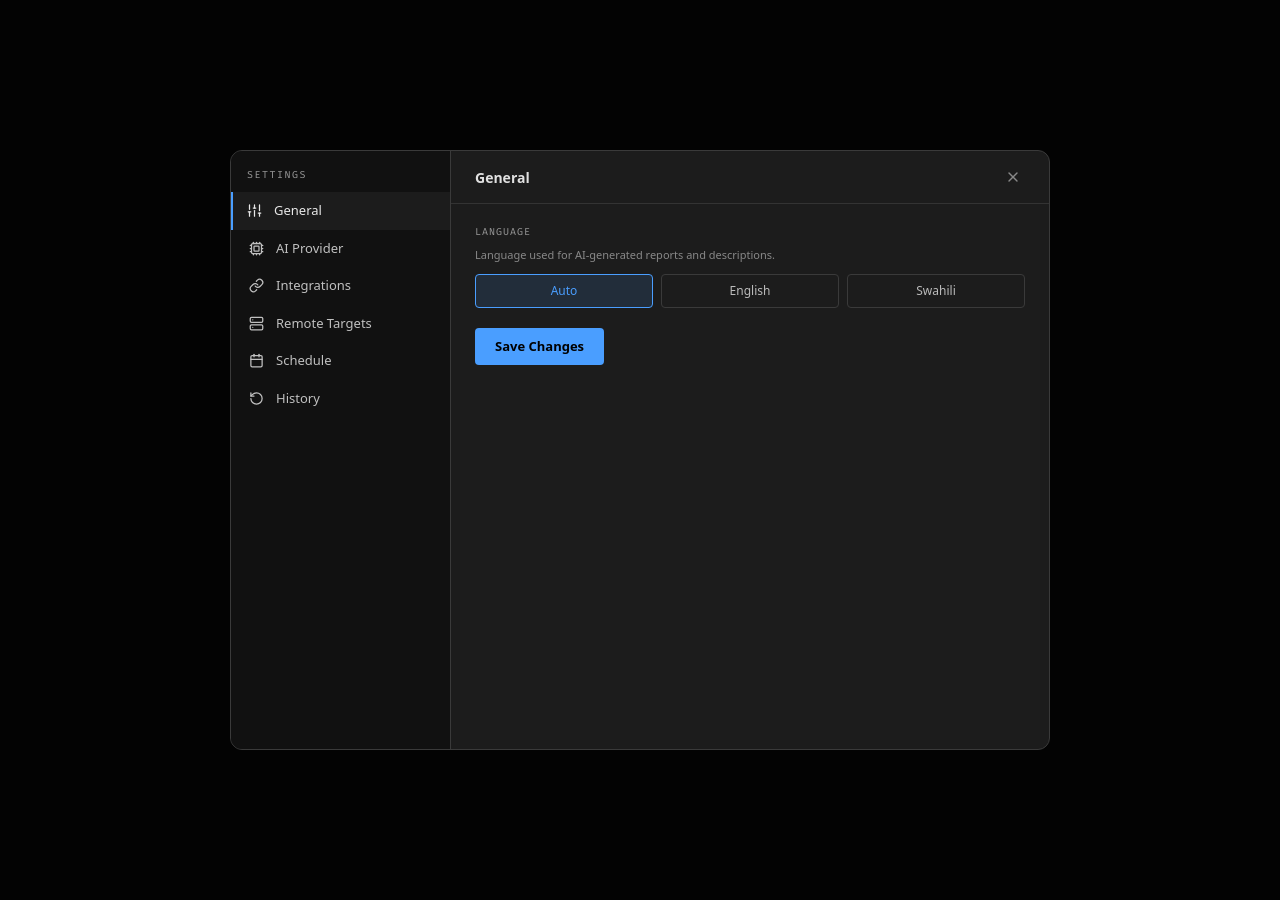
Test: SettingsModal nav › switches to AI Provider section
Click the button "AI Provider".
click(340, 248)  # box x1=231 y1=230 x2=450 y2=267
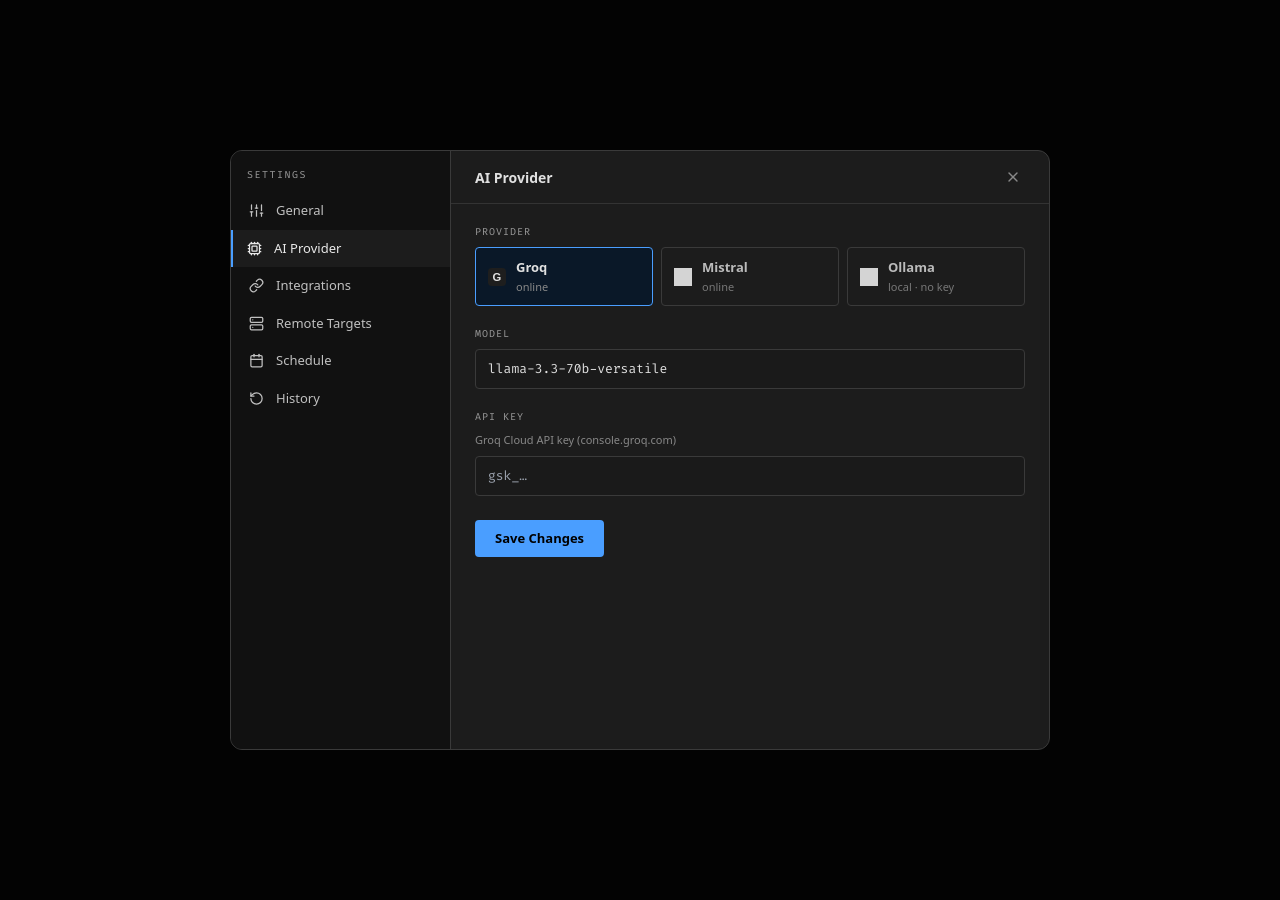
Now the text "Provider" is shown, box x1=475 y1=225 x2=531 y2=238
Now the field showing "llama-3.3-70b-versatile" is shown, box x1=475 y1=349 x2=1025 y2=388
